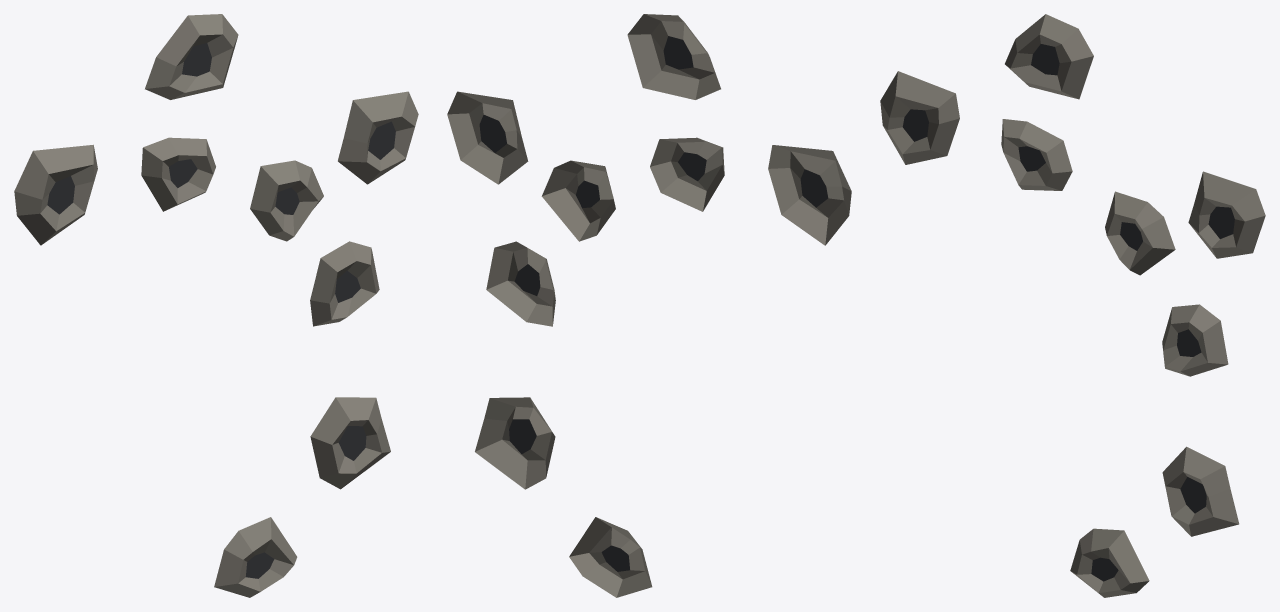
Rendered from SM_Bullet_Hole_E.fbx.
3 views of the same model, side by side, from view 1: azimuth 30°, elevation 25°; view 2: azimuth 150°, elevation 25°; view 3: azimuth 330°, elevation 25° (orthographic). The views are drawn at different scales.
Parts seen in each view (by area): view 1: SM_Bullet_Hole_E; view 2: SM_Bullet_Hole_E; view 3: SM_Bullet_Hole_E.
Part boxes in pixels (bbox=[...]): SM_Bullet_Hole_E: bbox=[14, 14, 418, 597]; SM_Bullet_Hole_E: bbox=[447, 14, 851, 597]; SM_Bullet_Hole_E: bbox=[880, 14, 1265, 597].
Bounding box in the file's own units: 122 × 173 × 4.82.
